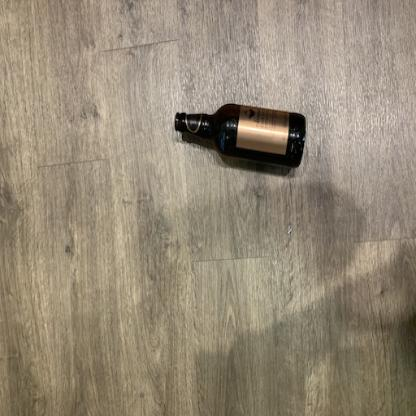trash: (173, 103, 305, 172)
